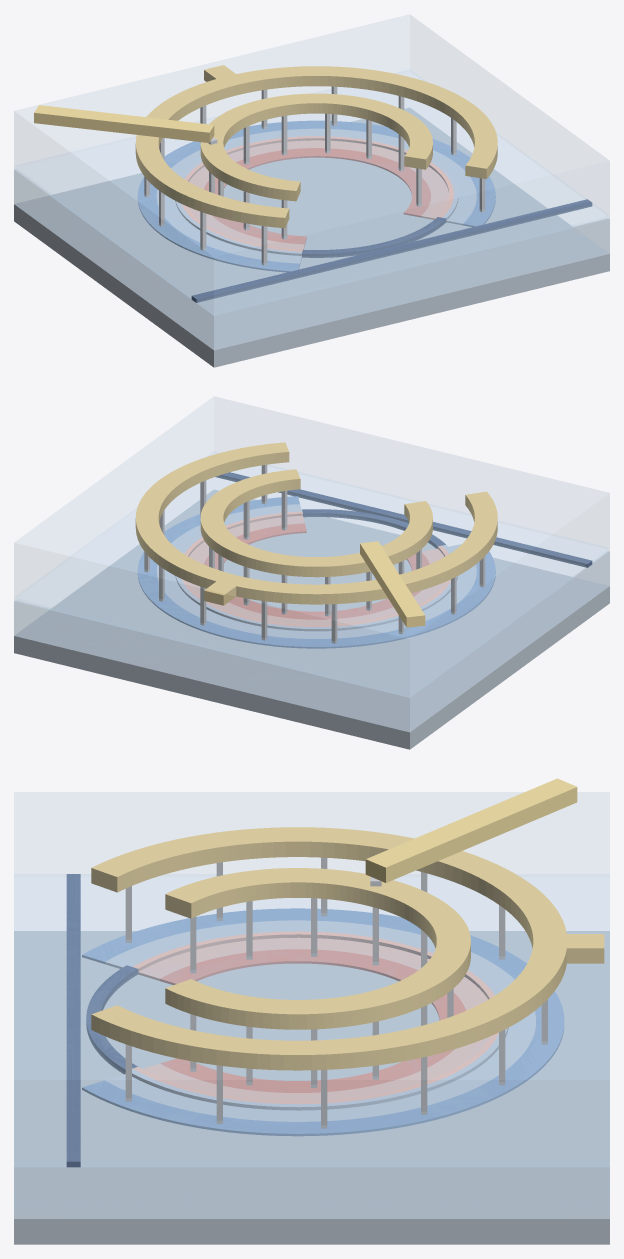
File: stack-ringmod.glb
3 renders of one model, top to bottom at view 1: azimuth 30°, elevation 25°; view 2: azimuth 150°, elevation 25°; view 3: azimuth 270°, elevation 25°, orthographic. The views are drawn at different scales.
Visible parts, largest first — view 1: cladd, sisub, box, metal1, ndop, nn, pdop, siwg, wplug, metal2, pp; view 2: cladd, sisub, box, metal1, nn, ndop, pdop, wplug, siwg, pp, metal2; view 3: cladd, sisub, metal1, box, nn, ndop, pdop, pp, wplug, metal2, siwg.
Part boxes in pixels (x1=…): cladd: x1=14, y1=15, x2=609, y2=315; sisub: x1=14, y1=107, x2=609, y2=367; box: x1=14, y1=169, x2=609, y2=349; metal1: x1=135, y1=65, x2=497, y2=228; ndop: x1=156, y1=128, x2=476, y2=263; nn: x1=137, y1=120, x2=495, y2=272; pdop: x1=182, y1=136, x2=453, y2=251; siwg: x1=191, y1=199, x2=592, y2=302; wplug: x1=144, y1=86, x2=485, y2=265; metal2: x1=34, y1=105, x2=214, y2=142; pp: x1=204, y1=148, x2=430, y2=245; cladd: x1=14, y1=397, x2=609, y2=697; sisub: x1=14, y1=489, x2=609, y2=749; box: x1=14, y1=551, x2=609, y2=731; metal1: x1=135, y1=442, x2=497, y2=605; nn: x1=137, y1=496, x2=495, y2=648; ndop: x1=156, y1=504, x2=476, y2=638; pdop: x1=181, y1=511, x2=450, y2=626; wplug: x1=144, y1=464, x2=485, y2=643; siwg: x1=216, y1=472, x2=592, y2=567; pp: x1=204, y1=523, x2=429, y2=619; metal2: x1=360, y1=541, x2=425, y2=627; cladd: x1=14, y1=792, x2=609, y2=1166; sisub: x1=14, y1=931, x2=609, y2=1244; metal1: x1=91, y1=827, x2=604, y2=1070; box: x1=14, y1=1162, x2=609, y2=1218; nn: x1=82, y1=908, x2=564, y2=1136; ndop: x1=105, y1=920, x2=535, y2=1121; pdop: x1=133, y1=931, x2=498, y2=1104; pp: x1=160, y1=949, x2=465, y2=1092; wplug: x1=125, y1=857, x2=547, y2=1128; metal2: x1=365, y1=778, x2=577, y2=882; siwg: x1=66, y1=874, x2=138, y2=1167.
Bounding box in the file's own units: 24 × 7 × 21.
